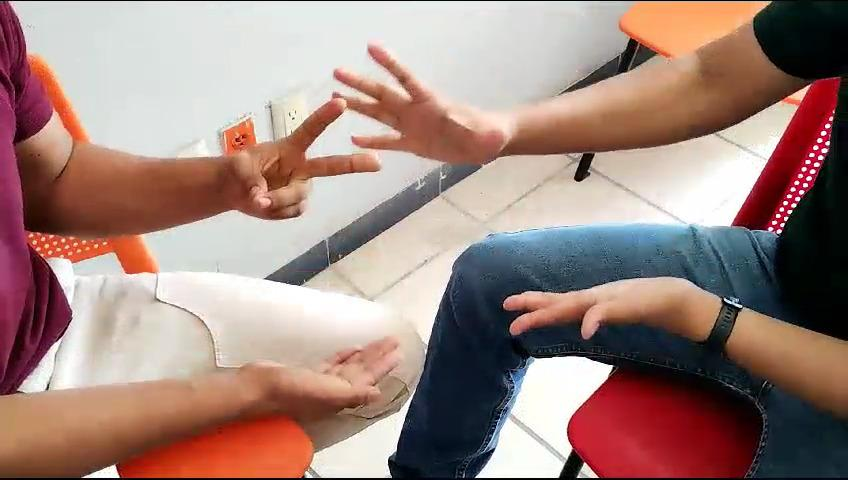Paper: (326, 34, 528, 174)
Scissor: (201, 82, 393, 224)
